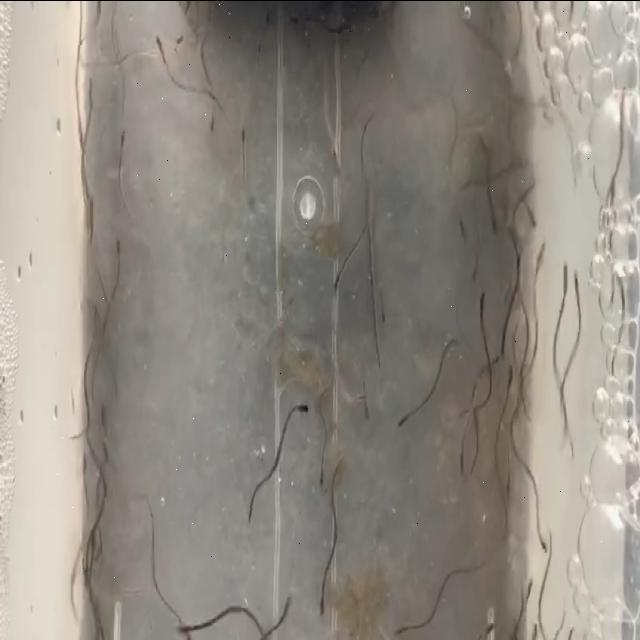active_glass_eel: (534, 227, 552, 270), (521, 566, 542, 600), (231, 121, 249, 159), (328, 272, 344, 314), (292, 394, 308, 435), (570, 260, 588, 293), (326, 126, 344, 158), (486, 200, 498, 247), (204, 108, 220, 142), (111, 116, 129, 146), (498, 364, 516, 392), (174, 26, 192, 51), (512, 248, 526, 280), (282, 294, 298, 322), (359, 392, 373, 423), (86, 527, 102, 554), (456, 438, 468, 474), (526, 201, 540, 231), (312, 466, 326, 495), (111, 230, 125, 258), (76, 564, 90, 592), (318, 588, 332, 616), (85, 210, 97, 242), (476, 280, 492, 304), (536, 528, 552, 552), (85, 76, 97, 106), (76, 122, 88, 152), (502, 472, 520, 492), (80, 448, 92, 477), (152, 28, 164, 55), (392, 411, 404, 436), (372, 350, 384, 374), (378, 296, 388, 324), (560, 262, 570, 290), (100, 399, 108, 432)
